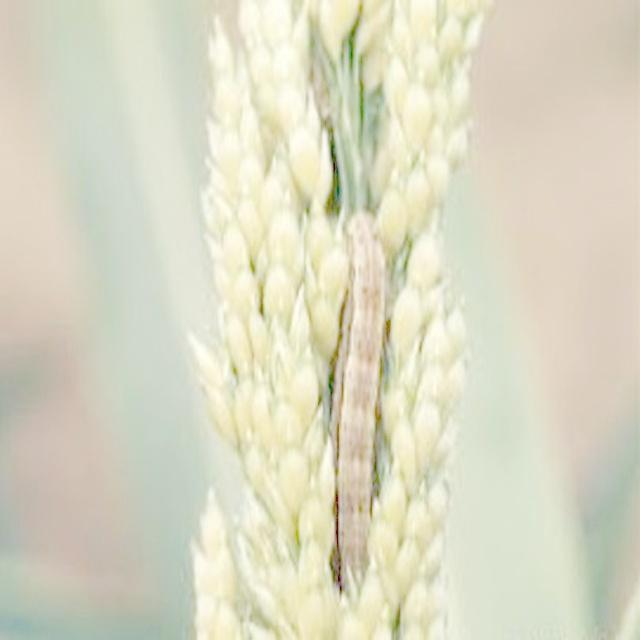gusano_cogollero: (324, 204, 387, 594)
